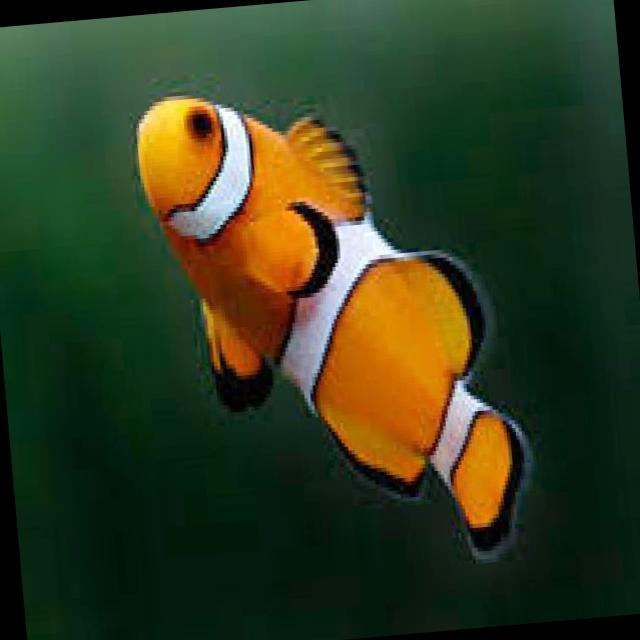ClownFish: (129, 64, 542, 590)
